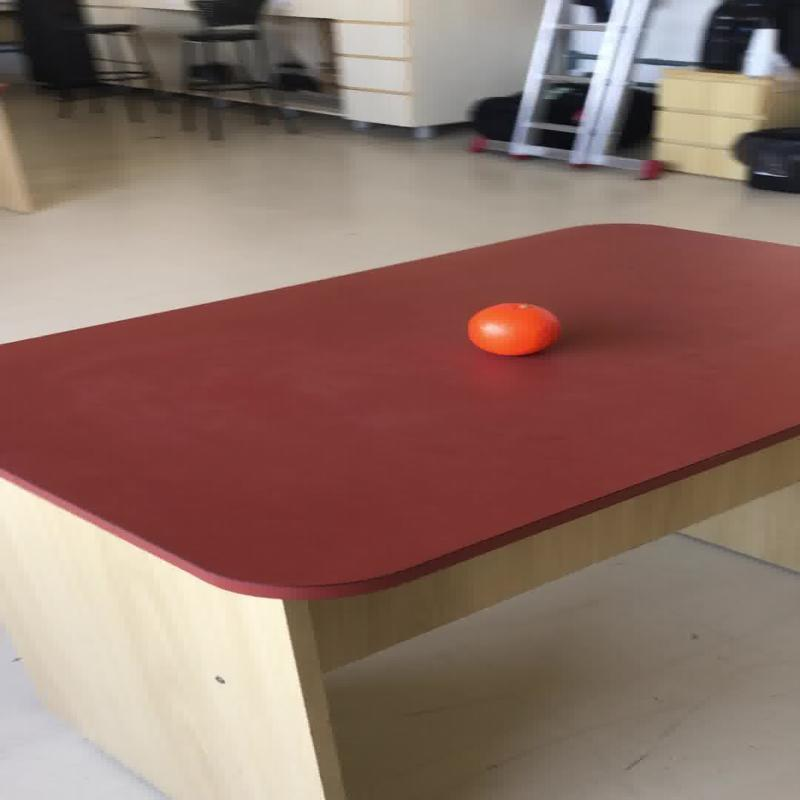orange: (466, 302, 560, 356)
